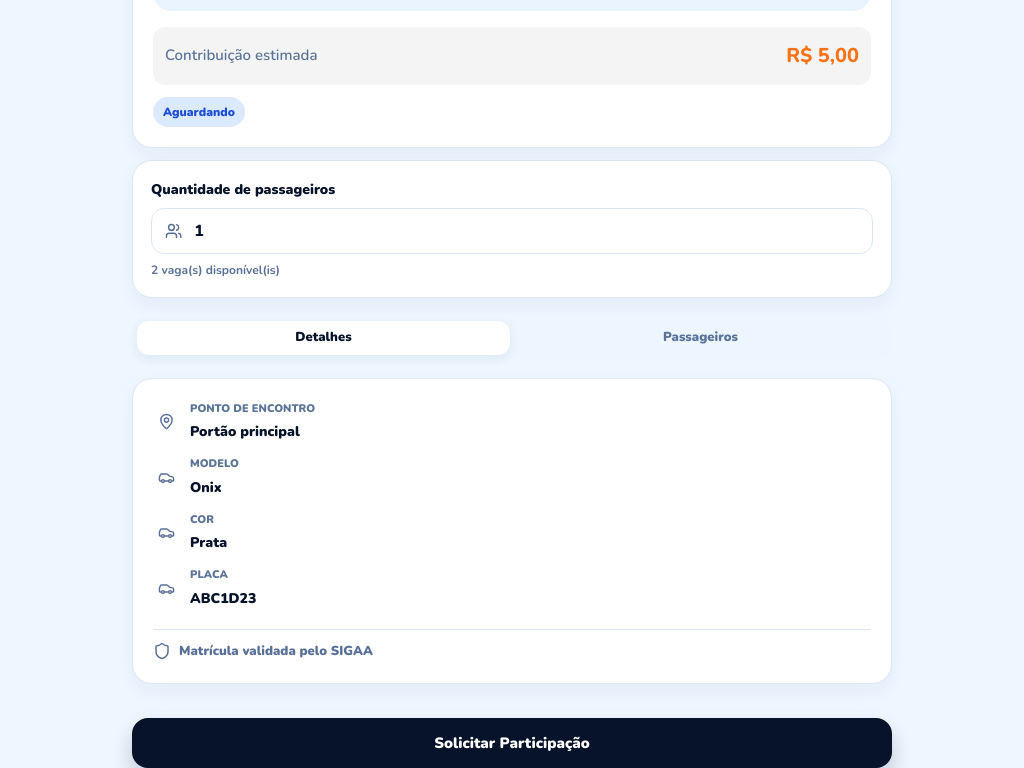
Test: DetalheCarona — solicitação de participação › geocodifica o endereço de embarque, confirma a reserva e atualiza a ação da tela
The image size is (1024, 768).
(page scrolled)
Click the button "Solicitar Participação" at coordinates (512, 743), box [132, 718, 892, 767]
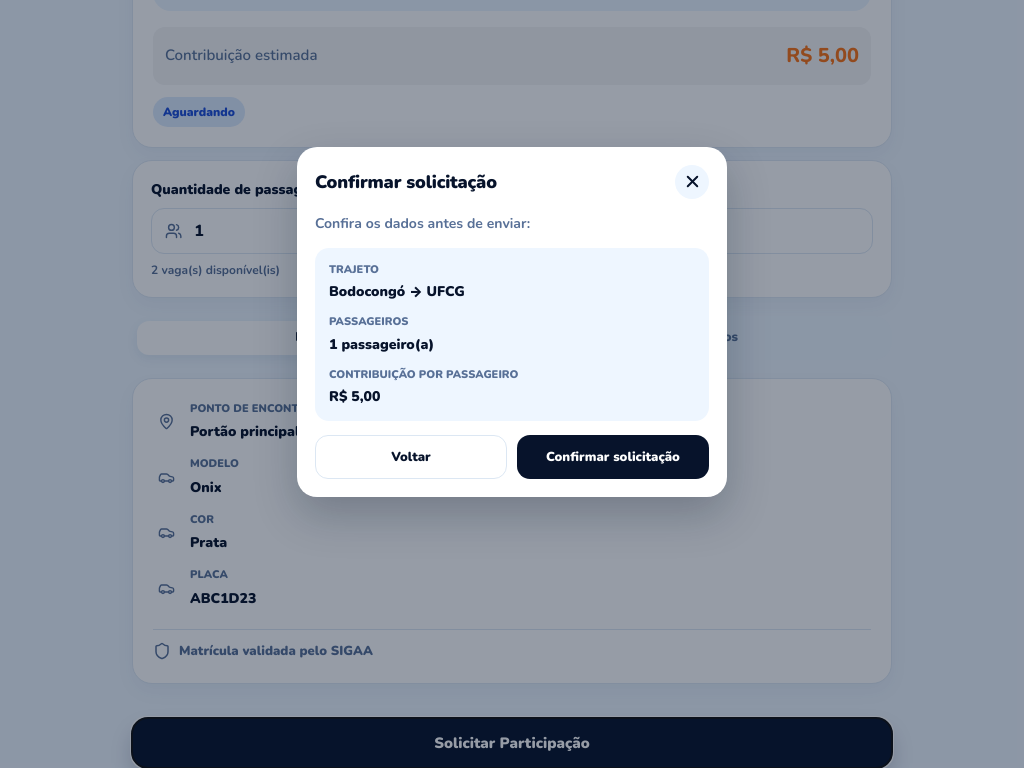
Click the button "Confirmar solicitação" at coordinates (613, 457), box [517, 435, 709, 479]
(page scrolled)
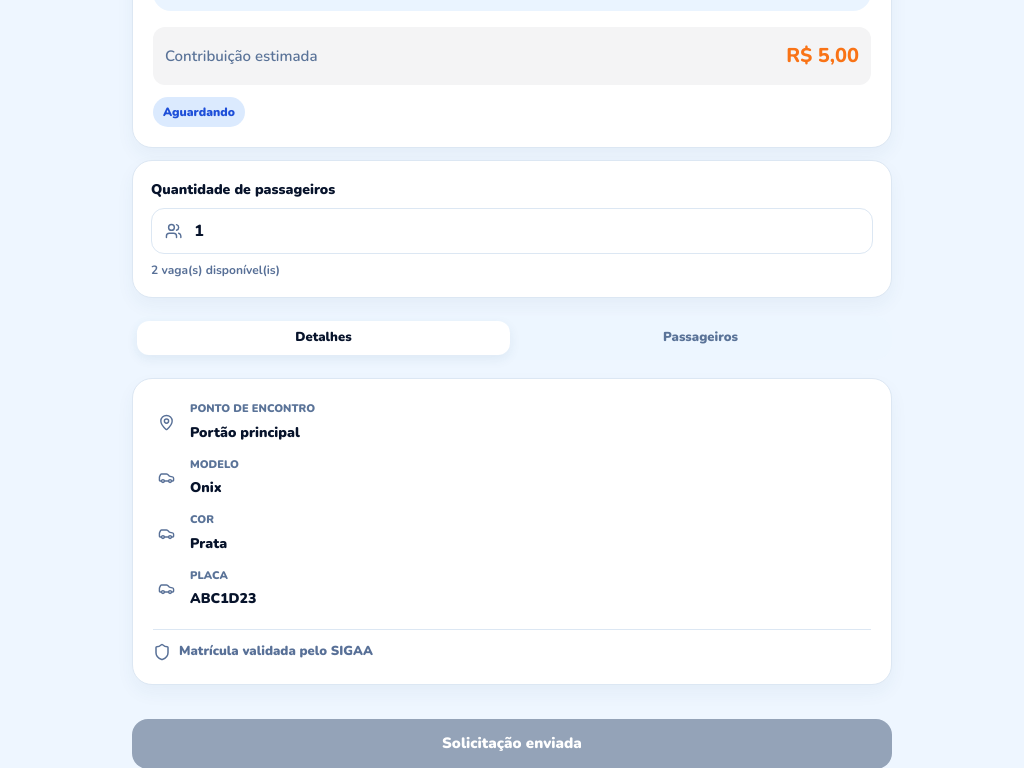
Expected: the button "Solicitação enviada" is disabled, [132, 719, 892, 767]
